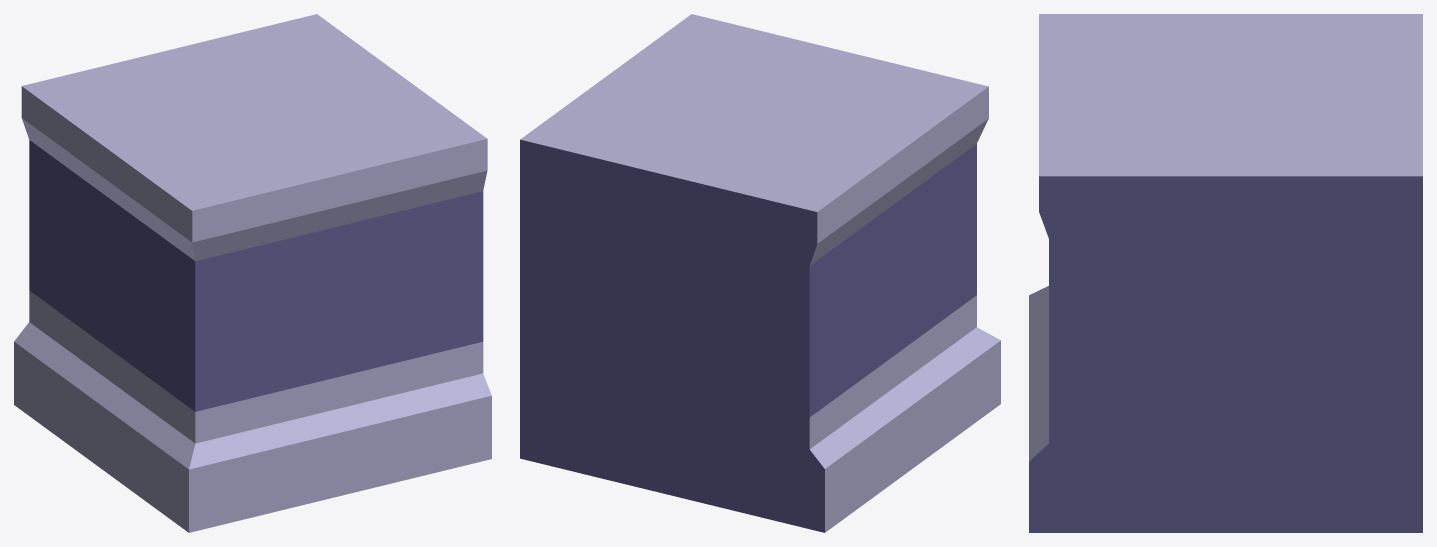
Rendered from Table_Corner.fbx.
The picture shows the model from 3 angles, left to right: view 1: azimuth 30°, elevation 25°; view 2: azimuth 150°, elevation 25°; view 3: azimuth 270°, elevation 25°; orthographic projection. The views are drawn at different scales.
Visible parts, largest first — view 1: floor_corner; view 2: floor_corner; view 3: floor_corner.
Part boxes in pixels (x1,y1,x2,y2): floor_corner: [14, 14, 491, 532]; floor_corner: [520, 14, 1000, 532]; floor_corner: [1029, 14, 1422, 532].
Bounding box in the file's own units: 10 × 10 × 10.
